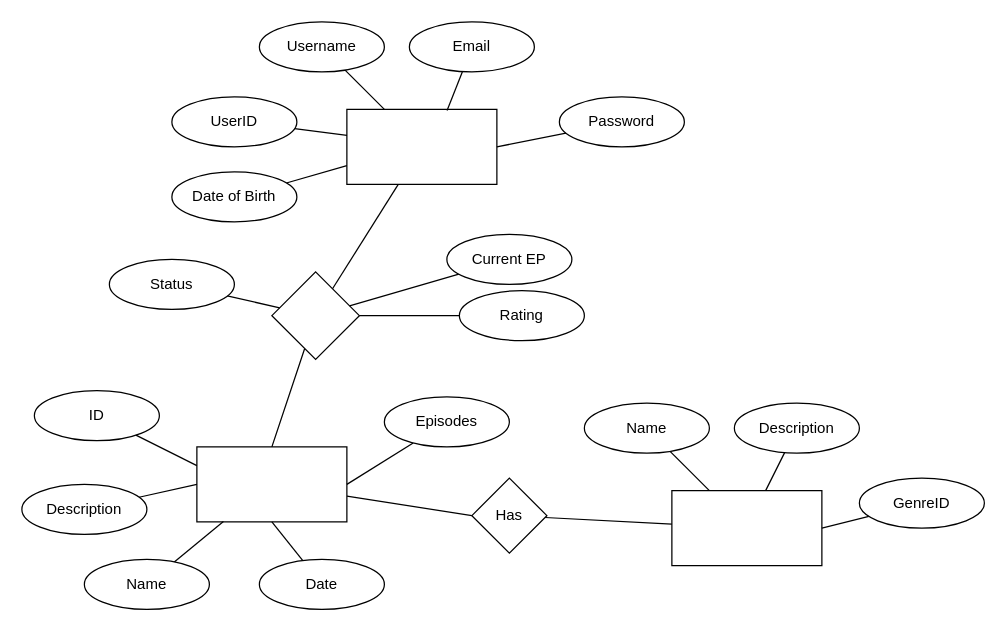
Image size: 1006x631. Some labels were removed from this diagram. Here are the shapes that lost their labels. From the top down, the box of each, then its label:
(346, 108, 497, 184): Users
(271, 271, 359, 359): Follow
(196, 446, 347, 522): Media
(671, 489, 822, 566): Genre
